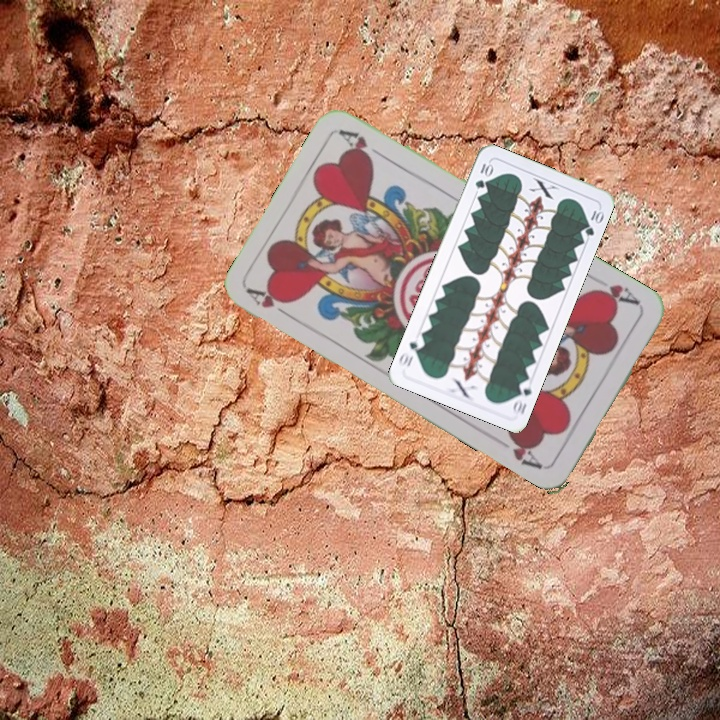G10: (508, 376, 535, 418), (471, 158, 496, 192)
HA: (244, 284, 297, 323), (587, 280, 643, 309)
